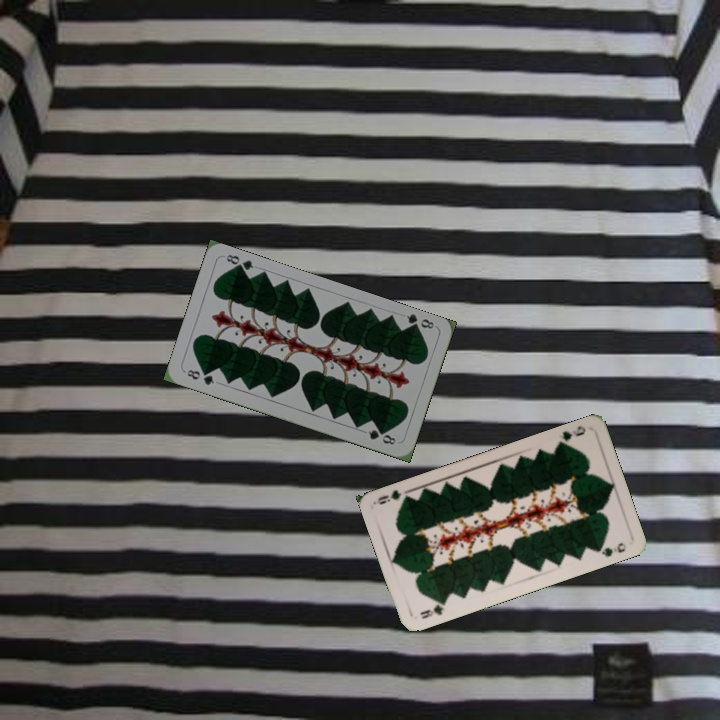G8: (402, 310, 437, 334), (183, 365, 217, 388)
G9: (553, 422, 588, 449), (415, 596, 450, 622)
